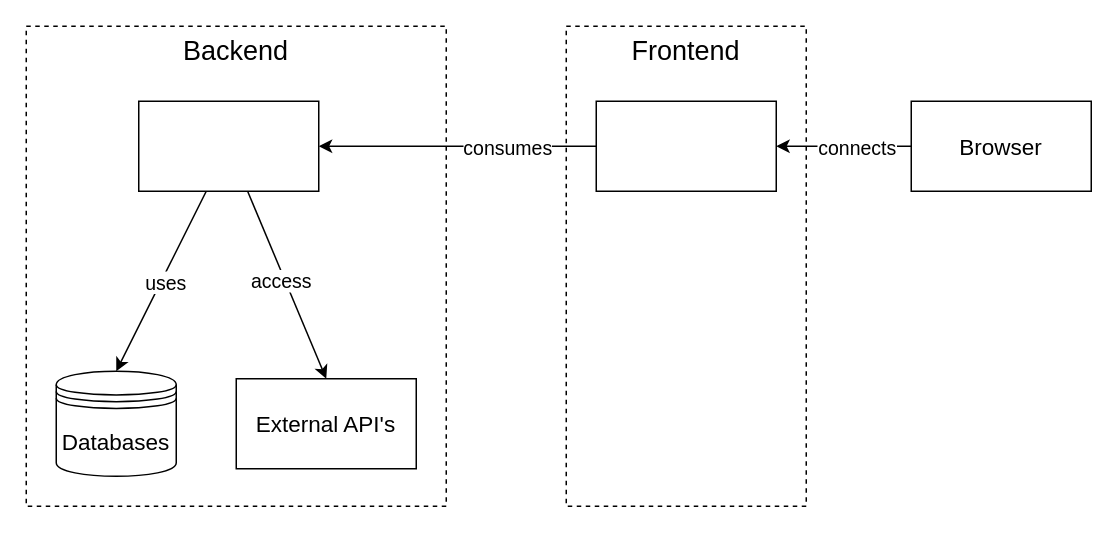
Some shapes in this 1118 by 533 pixel diagram are drawn without their labels. Each missing label, with the centre of its shape:
API: [228,145]
SPA: [685,145]
